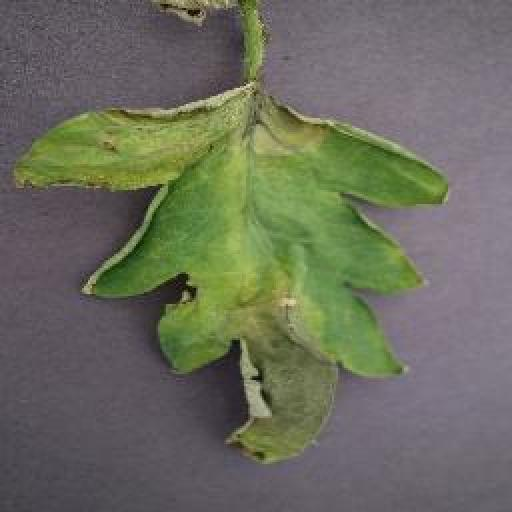Late Blight: (5, 80, 455, 467)
